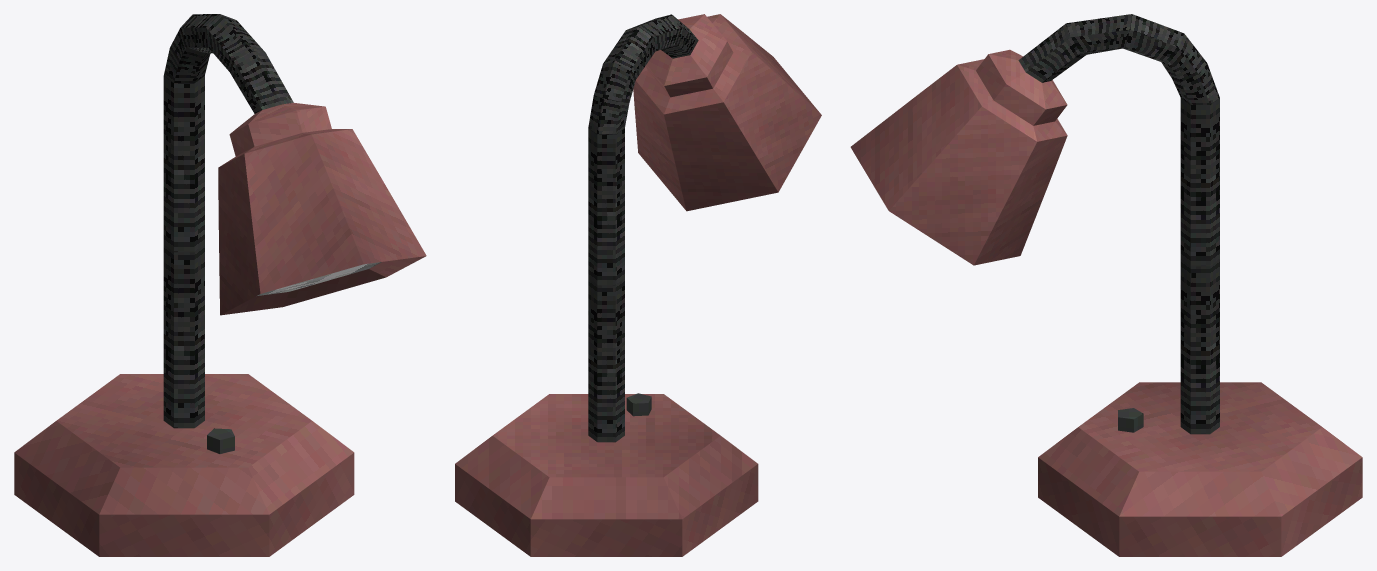
The model's file is circular_desklamp.fbx.
The picture shows the model from 3 angles, left to right: view 1: azimuth 30°, elevation 25°; view 2: azimuth 150°, elevation 25°; view 3: azimuth 270°, elevation 25°; orthographic projection. The views are drawn at different scales.
Visible parts, largest first — view 1: circular_desklamp; view 2: circular_desklamp; view 3: circular_desklamp.
Boxes of the visible parts, x1,y1,x2,y2 form: circular_desklamp: (14,14,426,556); circular_desklamp: (455,14,821,556); circular_desklamp: (850,14,1362,556).
Size of the model in its own units: 19.83 by 37.65 by 36.14.
